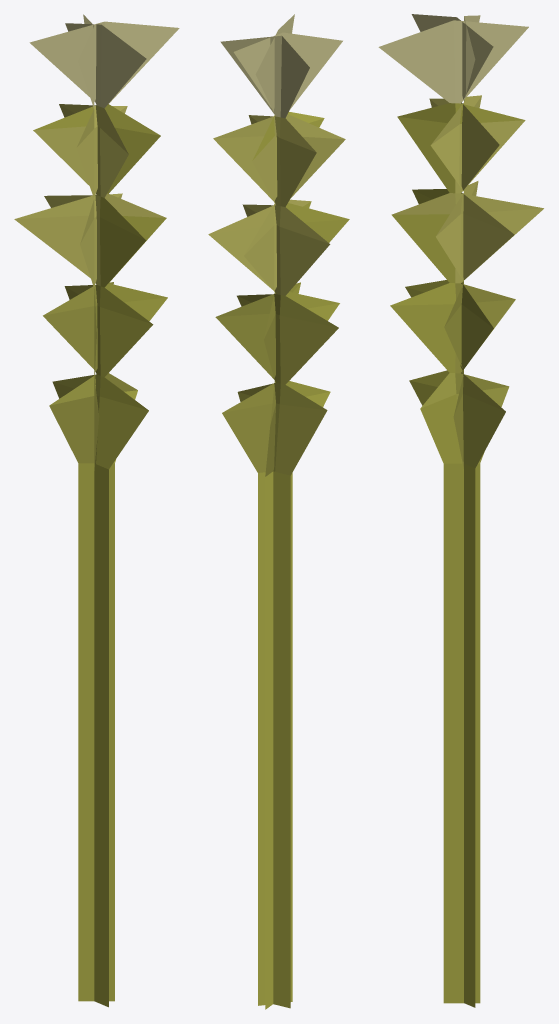
The model's file is Corn_02.glb.
3 renders of one model, left to right at view 1: azimuth 90°, elevation 25°; view 2: azimuth 150°, elevation 25°; view 3: azimuth 270°, elevation 25°, orthographic.
Parts seen in each view (by area): view 1: Corn 2; view 2: Corn 2; view 3: Corn 2.
Part boxes in pixels (left/top/right/bottom): Corn 2: left=14, top=14, right=179, bottom=1007; Corn 2: left=208, top=14, right=349, bottom=1009; Corn 2: left=378, top=14, right=543, bottom=1007.
Bounding box in the file's own units: 0.2427 × 2.01 × 0.308.
